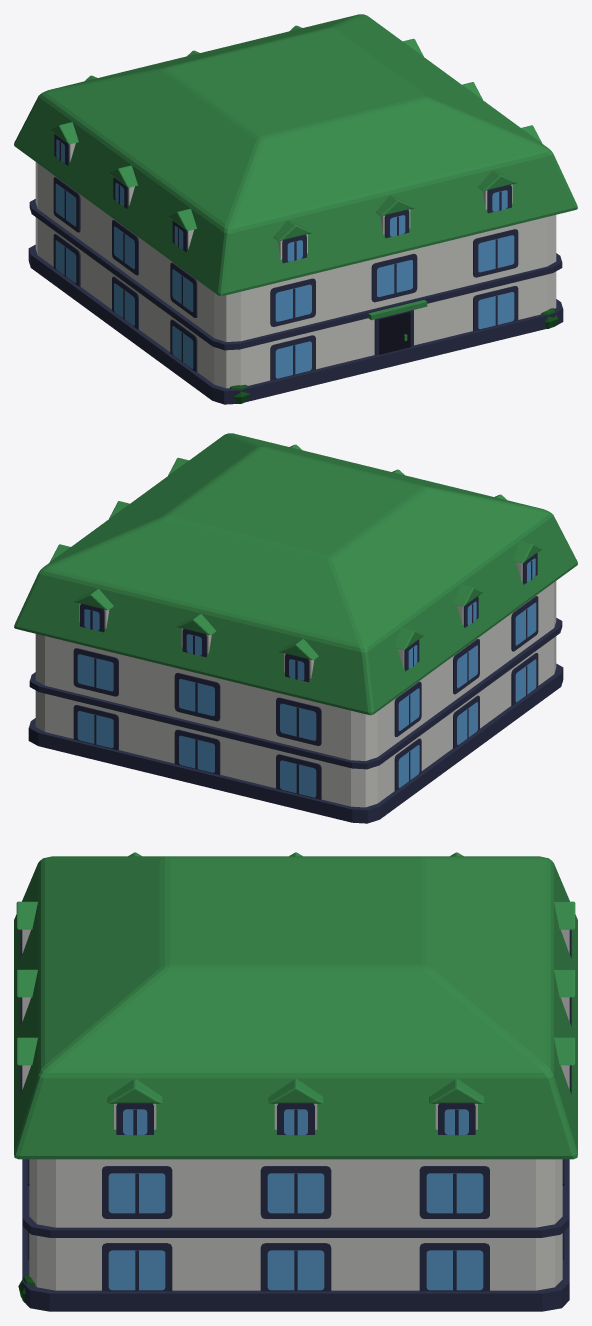
The model's file is house-2x2-2f-mansard-a.glb.
3 views of the same model, one above another, from view 1: azimuth 30°, elevation 25°; view 2: azimuth 150°, elevation 25°; view 3: azimuth 270°, elevation 25° (orthographic). The views are drawn at different scales.
Visible parts, largest first — view 1: house-2x2-2f-mansard-a; view 2: house-2x2-2f-mansard-a; view 3: house-2x2-2f-mansard-a.
Boxes of the visible parts, left/top/right/bottom form: house-2x2-2f-mansard-a: left=14, top=14, right=577, bottom=404; house-2x2-2f-mansard-a: left=14, top=433, right=577, bottom=823; house-2x2-2f-mansard-a: left=14, top=852, right=577, bottom=1311.
Size of the model in its own units: 1.99 by 1.11 by 1.99.
Materials: 1 (1 with a texture image).
